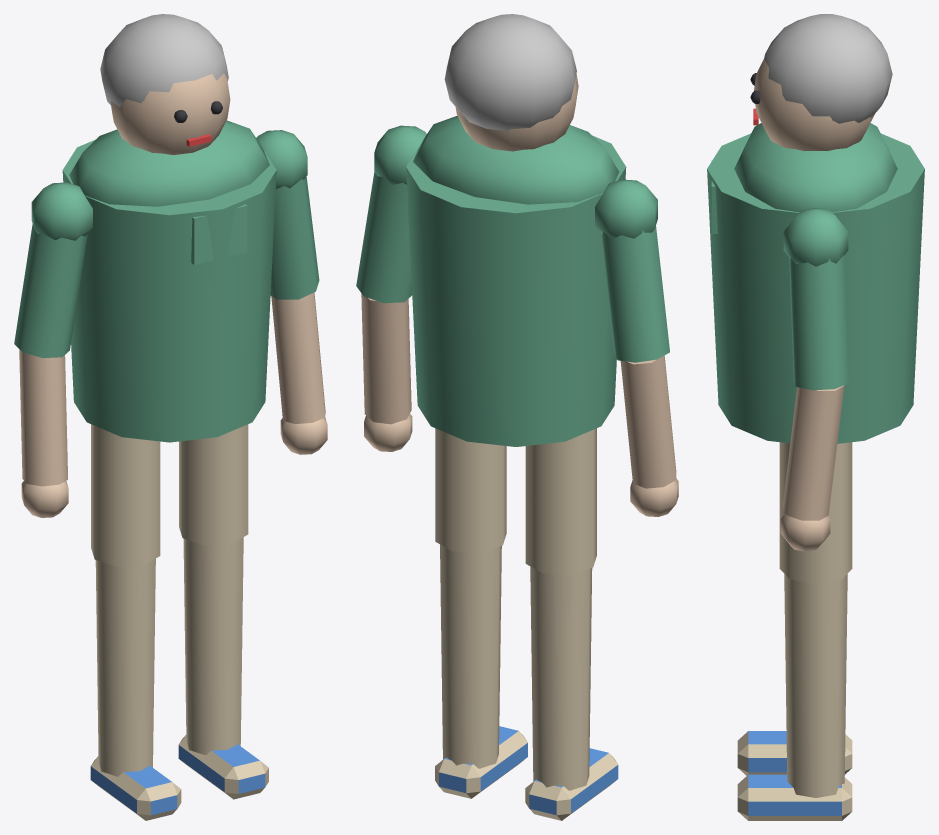
Rendered from SM_NPC_Uncle.fbx.
3 renders of one model, left to right at view 1: azimuth 30°, elevation 25°; view 2: azimuth 150°, elevation 25°; view 3: azimuth 270°, elevation 25°, orthographic. The views are drawn at different scales.
Visible parts, largest first — view 1: SM_NPC_Uncle; view 2: SM_NPC_Uncle; view 3: SM_NPC_Uncle.
Boxes of the visible parts, x1,y1,x2,y2 form: SM_NPC_Uncle: [14, 14, 327, 820]; SM_NPC_Uncle: [356, 14, 678, 820]; SM_NPC_Uncle: [707, 14, 924, 820].
Size of the model in its own units: 0.6791 by 1.63 by 0.418.
